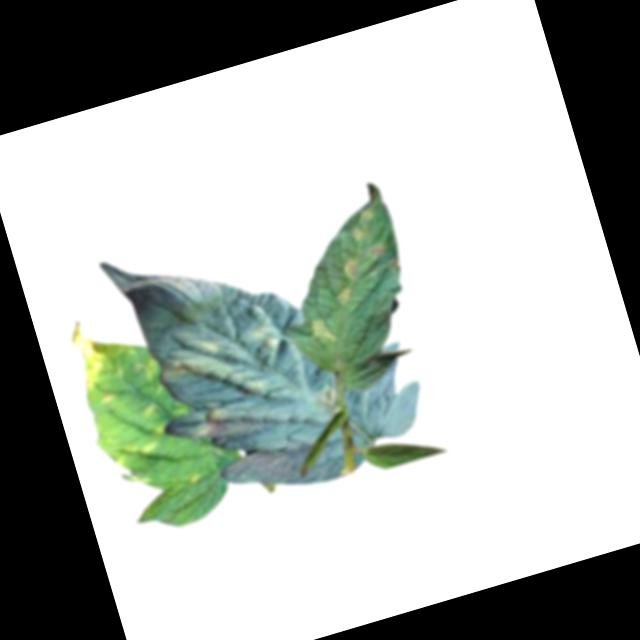Leaf_Mold: (151, 322, 267, 418), (61, 307, 135, 394), (186, 394, 264, 452), (103, 420, 170, 470), (322, 252, 367, 307), (248, 314, 286, 358), (302, 309, 338, 350), (306, 383, 344, 418)
